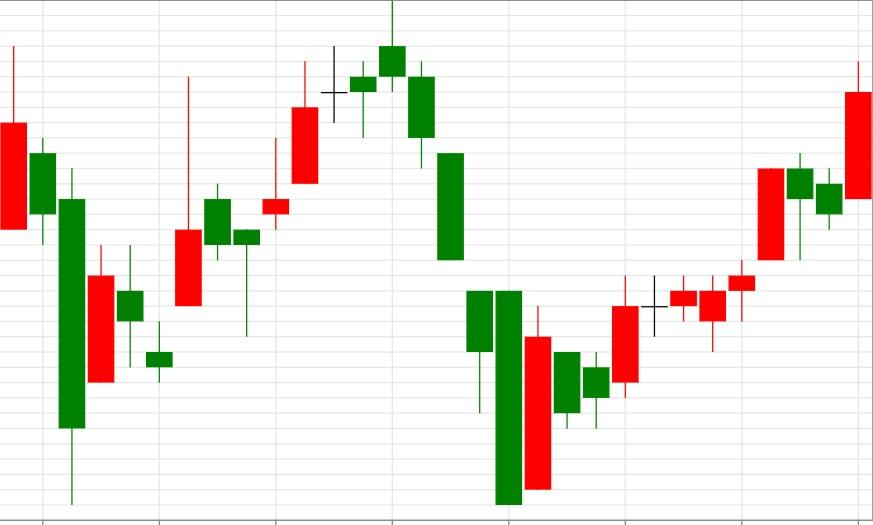hanging_man_fall: (494, 153, 814, 506)
three_black_crows_fall: (146, 0, 465, 381)
